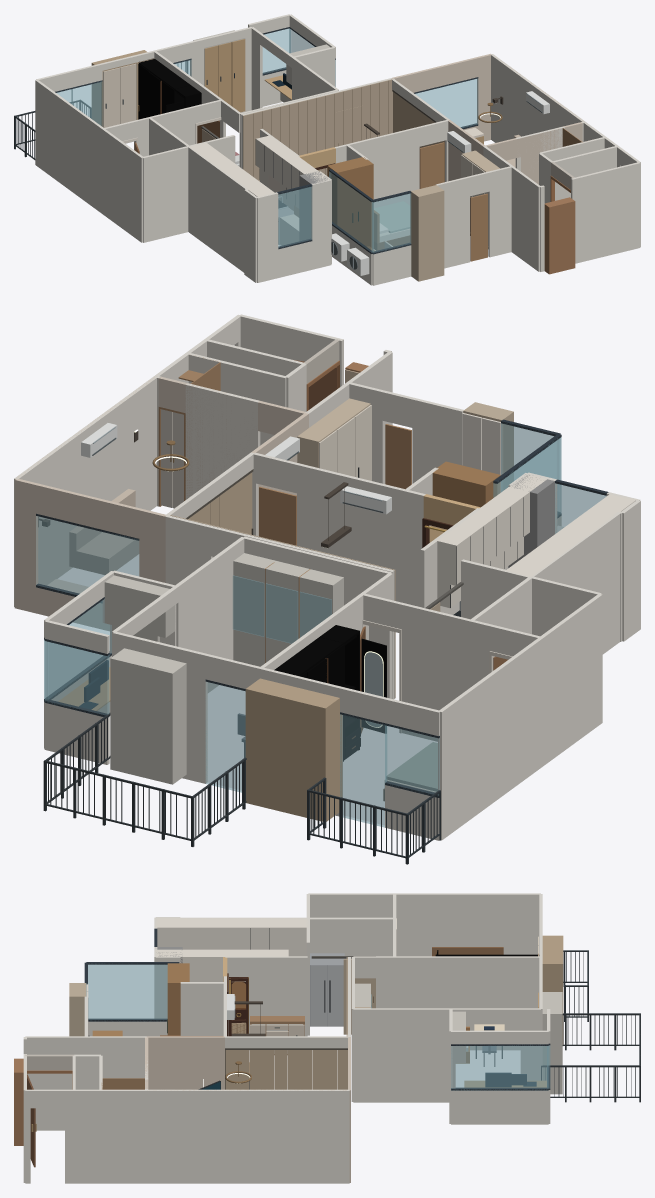
Rendered from A501-furnished-reference.glb.
The picture shows the model from 3 angles, top to bottom: view 1: azimuth 30°, elevation 25°; view 2: azimuth 150°, elevation 25°; view 3: azimuth 270°, elevation 25°; orthographic projection. The views are drawn at different scales.
Parts seen in each view (by area): view 1: Element 1, Element 19, Element 7, Element 196, Element 5, Element 12, Element 52, Element 4, Element 610, Element 604, Element 13, Element 126 (+67 smaller); view 2: Element 1, Element 378, Element 12, Element 52, Element 578, Element 572, Element 4, Element 56, Element 15, Element 35, Element 79, Element 679 (+75 smaller); view 3: Element 12, Element 79, Element 78, Element 1, Element 17, Element 660, Element 13, Element 25, Element 53, Element 89, Element 44, Element 6 (+41 smaller).
Boxes of the visible parts, box(x1,y1,x2,y2) form: Element 1: box(35, 79, 104, 213); Element 19: box(571, 162, 640, 263); Element 7: box(188, 147, 247, 272); Element 196: box(243, 93, 336, 181); Element 5: box(143, 146, 188, 242); Element 12: box(491, 54, 585, 142); Element 52: box(334, 127, 419, 207); Element 4: box(102, 128, 143, 242); Element 610: box(410, 185, 444, 281); Element 604: box(327, 157, 373, 247); Element 13: box(483, 146, 540, 271); Element 126: box(544, 197, 575, 274); Element 1: box(438, 637, 542, 840); Element 378: box(245, 678, 342, 821); Element 12: box(14, 376, 157, 606); Element 52: box(297, 463, 425, 606); Element 578: box(110, 648, 186, 784); Element 572: box(233, 553, 343, 666); Element 4: box(539, 593, 602, 766); Element 56: box(402, 603, 491, 741); Element 15: box(185, 383, 260, 499); Element 35: box(36, 516, 139, 594); Element 79: box(175, 537, 244, 692); Element 679: box(436, 474, 546, 585); Element 12: box(146, 1089, 349, 1183); Element 79: box(353, 1008, 450, 1102); Element 78: box(387, 956, 540, 1049); Element 1: box(394, 893, 540, 956); Element 17: box(65, 1089, 146, 1183); Element 660: box(155, 918, 308, 956); Element 13: box(25, 1036, 146, 1130); Element 25: box(88, 963, 167, 1019); Element 53: box(225, 956, 307, 1036); Element 89: box(451, 1044, 548, 1090); Element 44: box(146, 1036, 224, 1089); Element 6: box(308, 917, 394, 1008).
Size of the model in its own units: 12.34 by 2.7 by 16.53.
448 materials, 4 textured.
